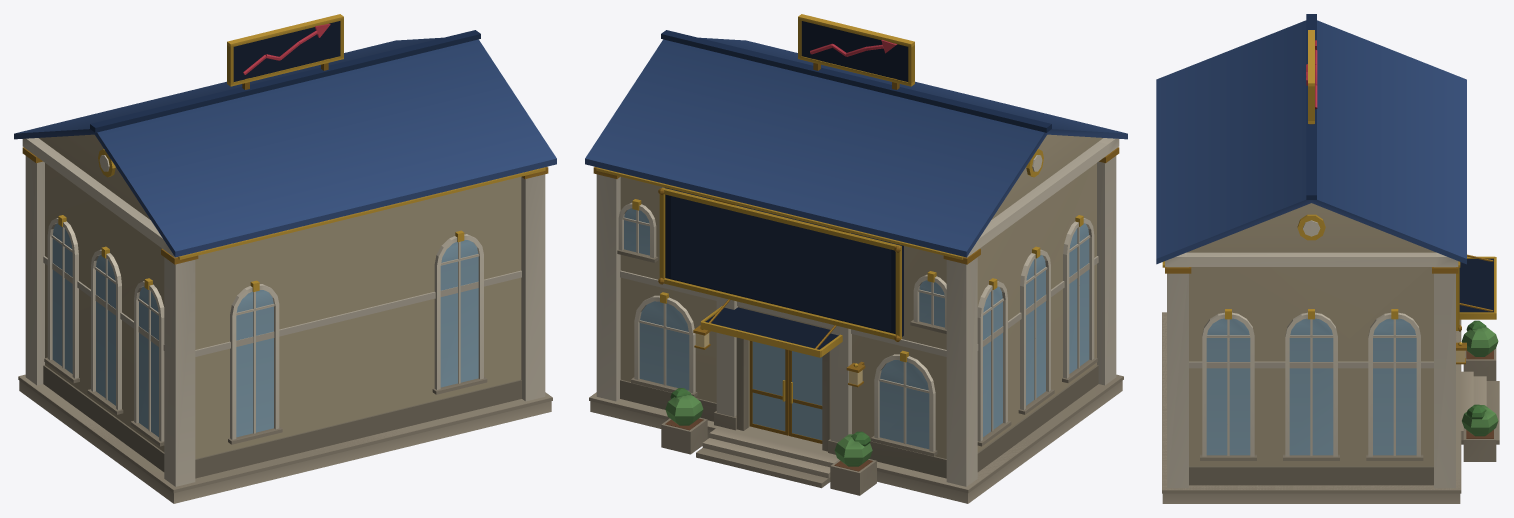
Rendered from stock_exchange_low.glb.
3 views of the same model, side by side, from view 1: azimuth 30°, elevation 25°; view 2: azimuth 150°, elevation 25°; view 3: azimuth 270°, elevation 25° (orthographic). The views are drawn at different scales.
Parts seen in each view (by area): view 1: stock_exchange, roof; view 2: stock_exchange, roof, board_screen, doors; view 3: stock_exchange, roof.
Part boxes in pixels (x1,y1,x2,y2): stock_exchange: (18, 138, 552, 503); roof: (14, 14, 556, 257); stock_exchange: (589, 138, 1123, 503); roof: (585, 14, 1127, 257); board_screen: (671, 196, 891, 331); doors: (749, 341, 822, 443); stock_exchange: (1162, 252, 1499, 503); roof: (1156, 14, 1466, 264).
Size of the model in its own units: 9.8 by 9.04 by 7.85.
